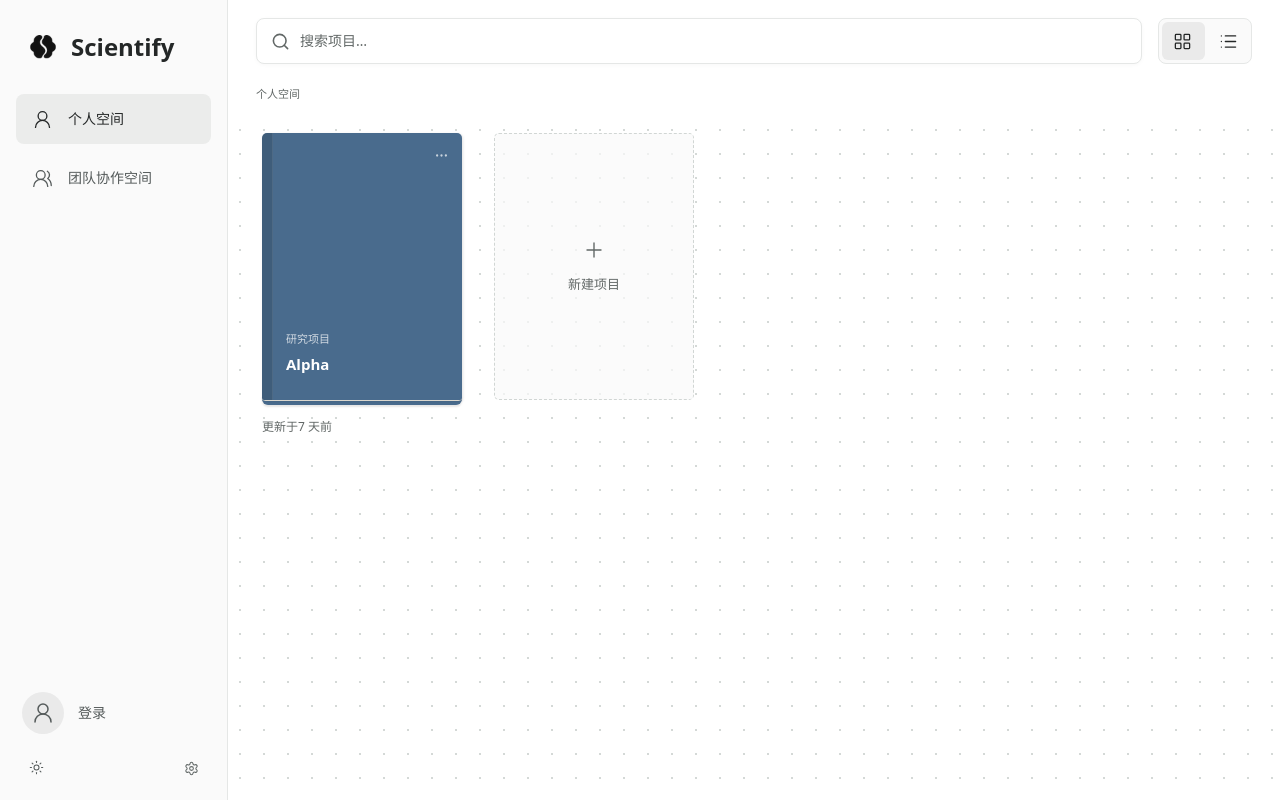
keeps the project when deletion fails and only removes records after a successful retry
Click the button named "项目操作 Alpha" at (441,155), box [428,142,454,168]
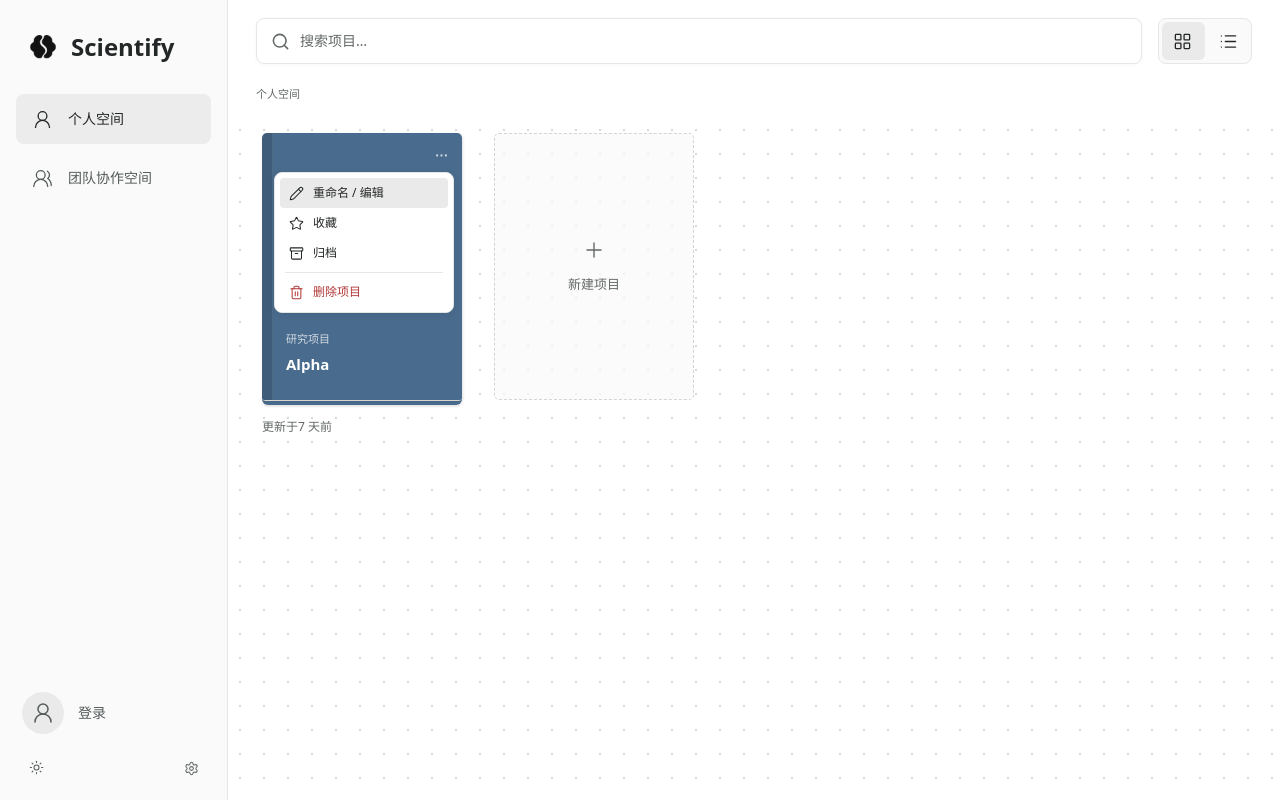
Click the menu item "删除项目" at (364,292), box [280,277,448,307]
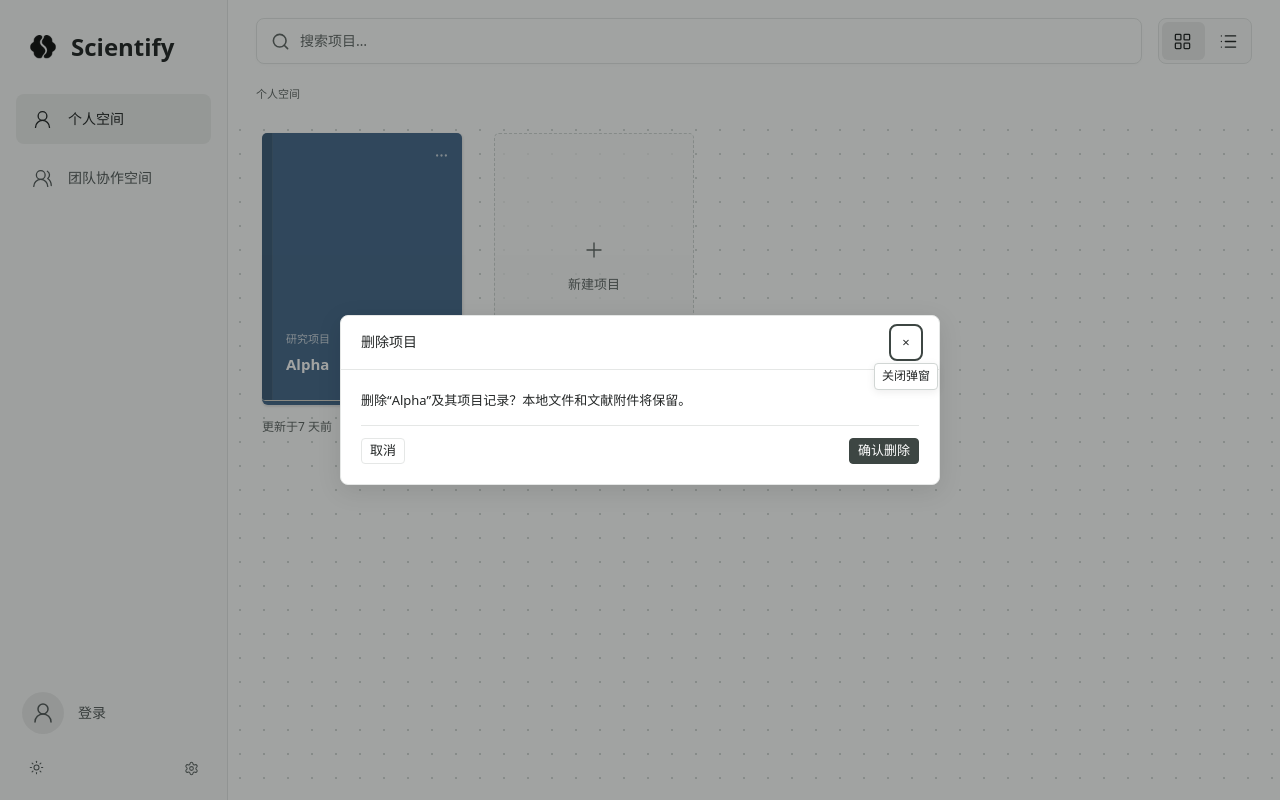
Click the button "确认删除" at (884,451), box [849,438,919,464]
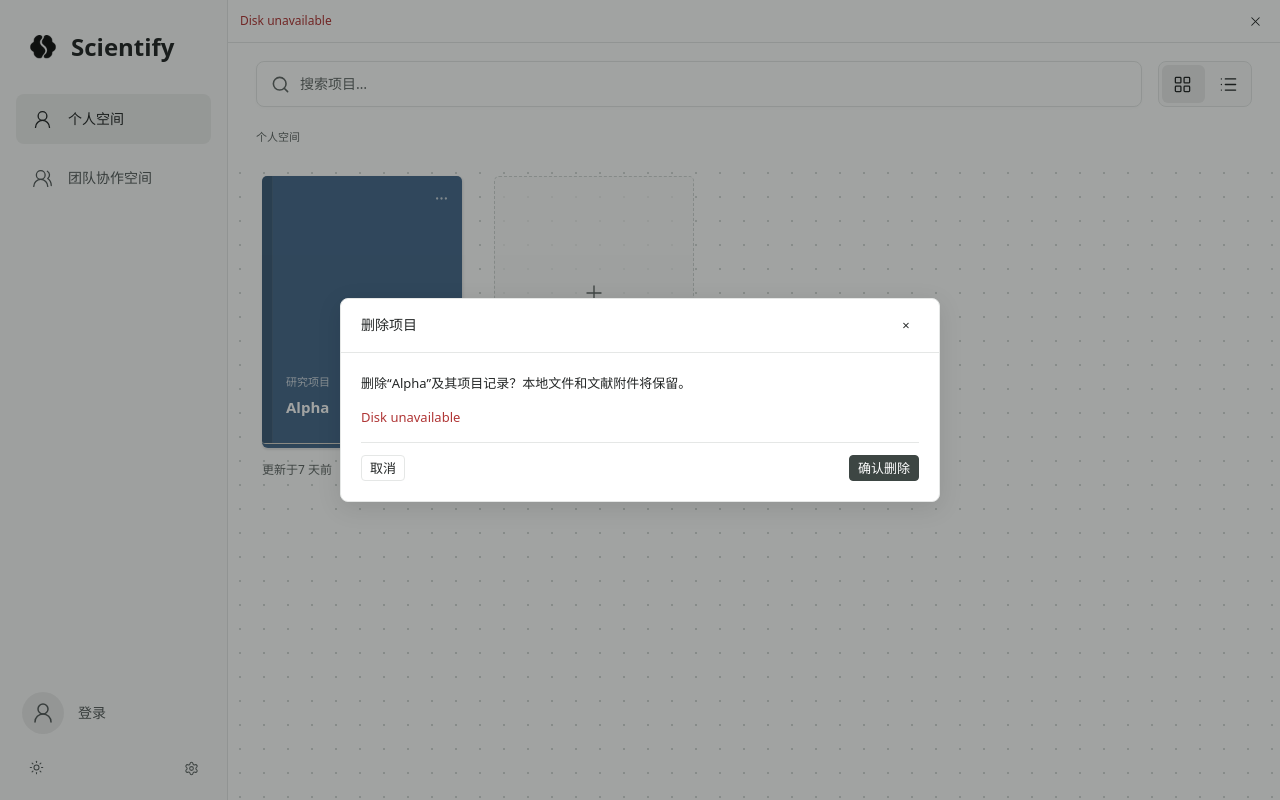
Expected: the text "Disk unavailable" below "删除“Alpha”及其项目记录？本地文件和文献附件将保留。" is shown, [361,408,460,426]
Click the button "确认删除" at (884,468), box [849,455,919,481]
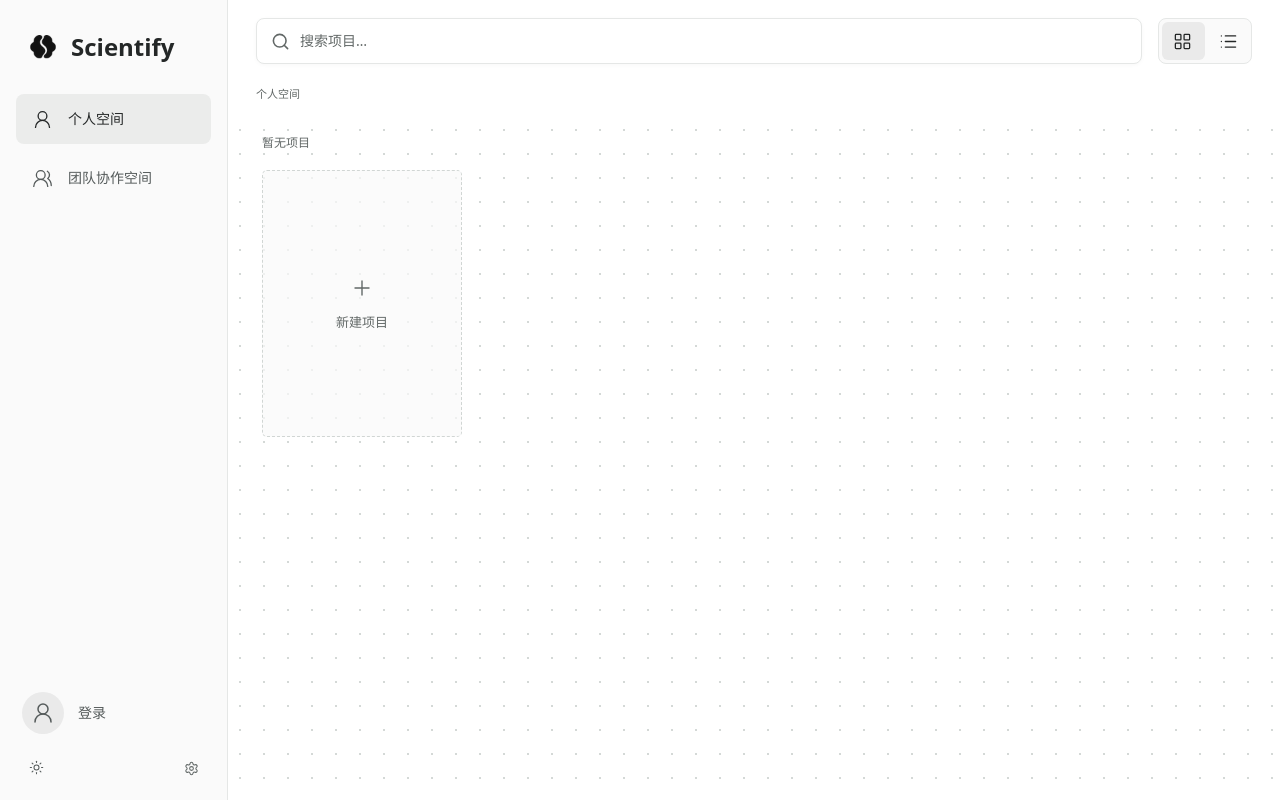
Expected: the dialog is gone
